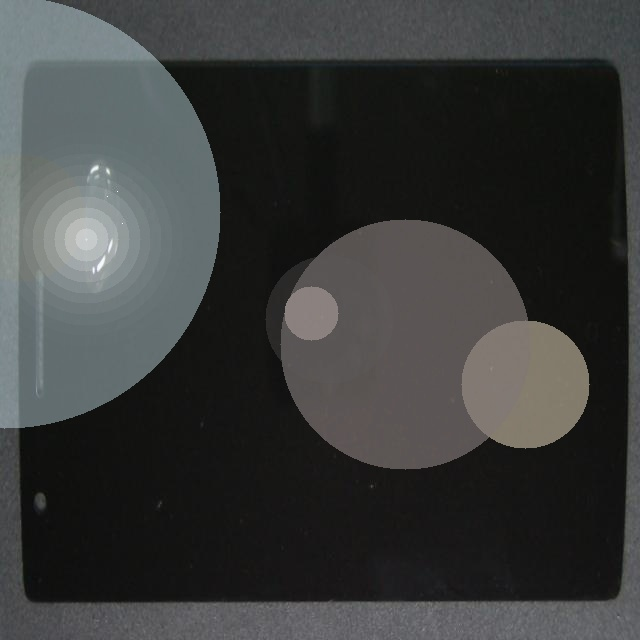oil: (35, 84, 125, 370)
